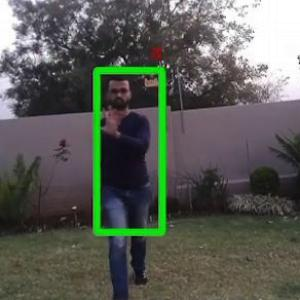follow_hand: (96, 102, 126, 138)
